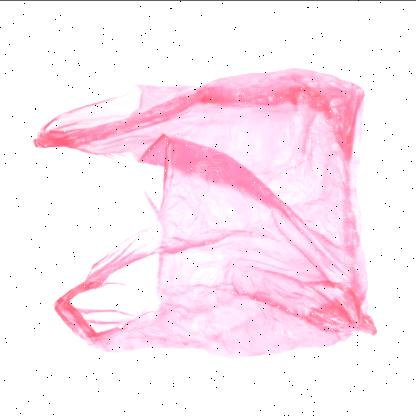Others: (30, 63, 378, 360)
